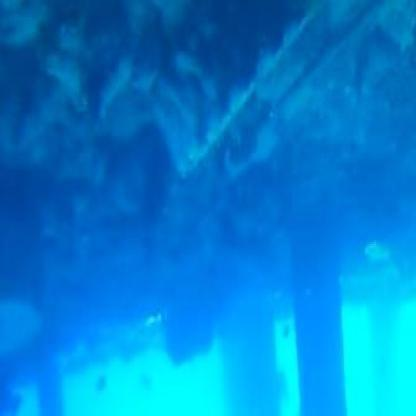tire: (142, 2, 332, 164)
